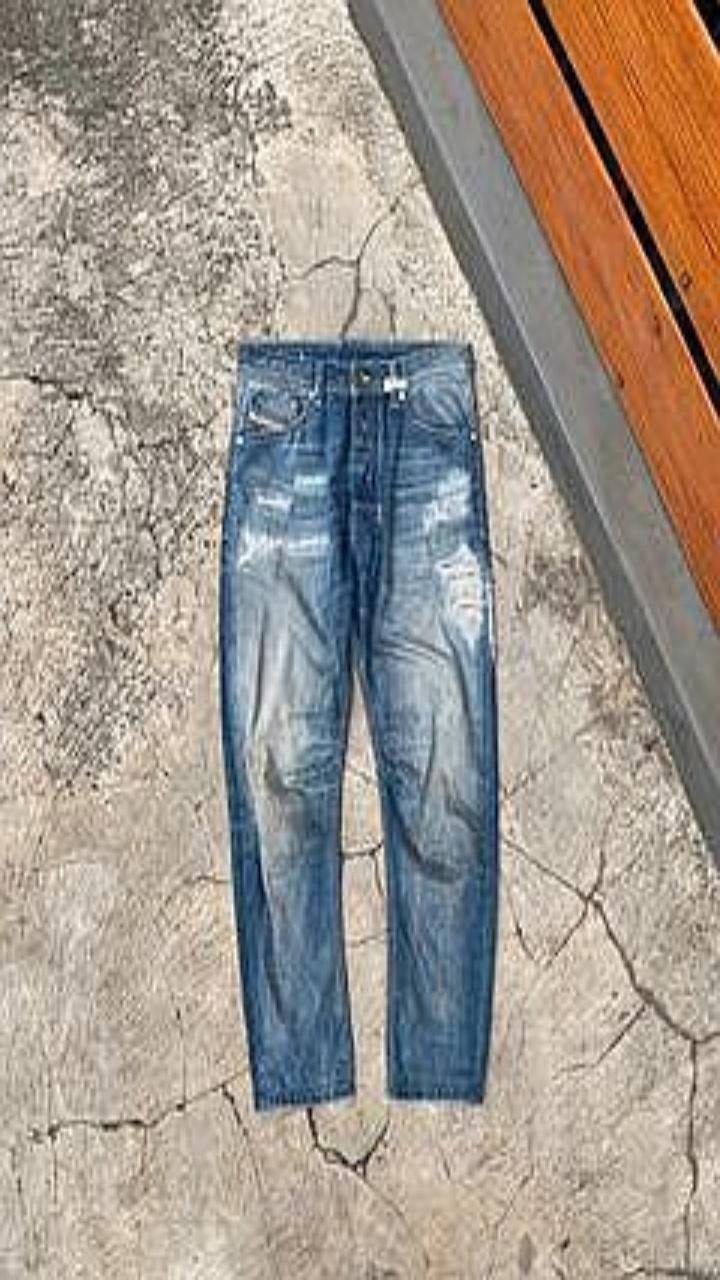Jeans: (219, 338, 497, 1108)
